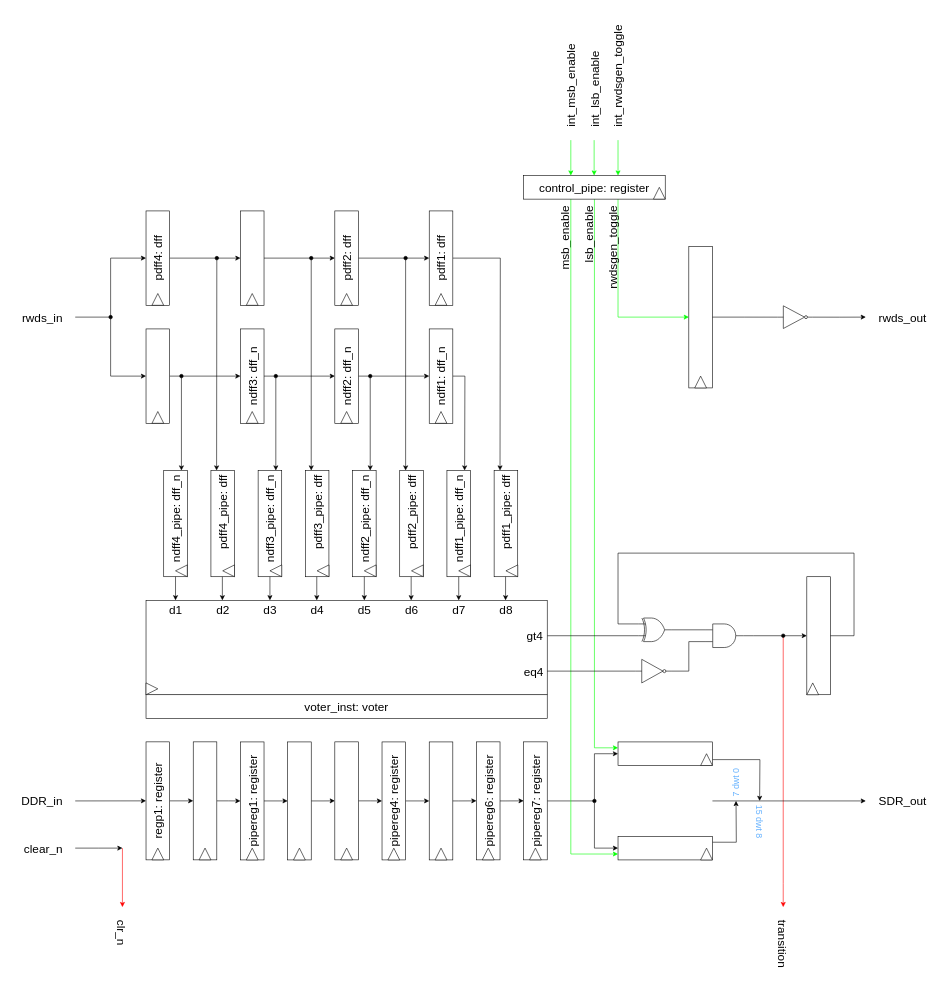
Some shapes in this 952 by 988 pixel diagram are drawn without their labels. Each missing label, with the box of its shape:
lsb: register: (617, 836, 712, 860)
msb: register: (617, 741, 712, 766)
ndff4: dff_n: (145, 328, 170, 423)
pdff3: dff: (240, 210, 264, 305)
pipereg2: register: (287, 741, 311, 860)
pipereg3: register: (334, 741, 358, 860)
pipereg5: register: (429, 741, 453, 860)
regp2: register: (193, 741, 217, 860)
rwds_gen: t_flipflop: (688, 246, 712, 388)
tracker: t_flipflop: (806, 576, 830, 695)
